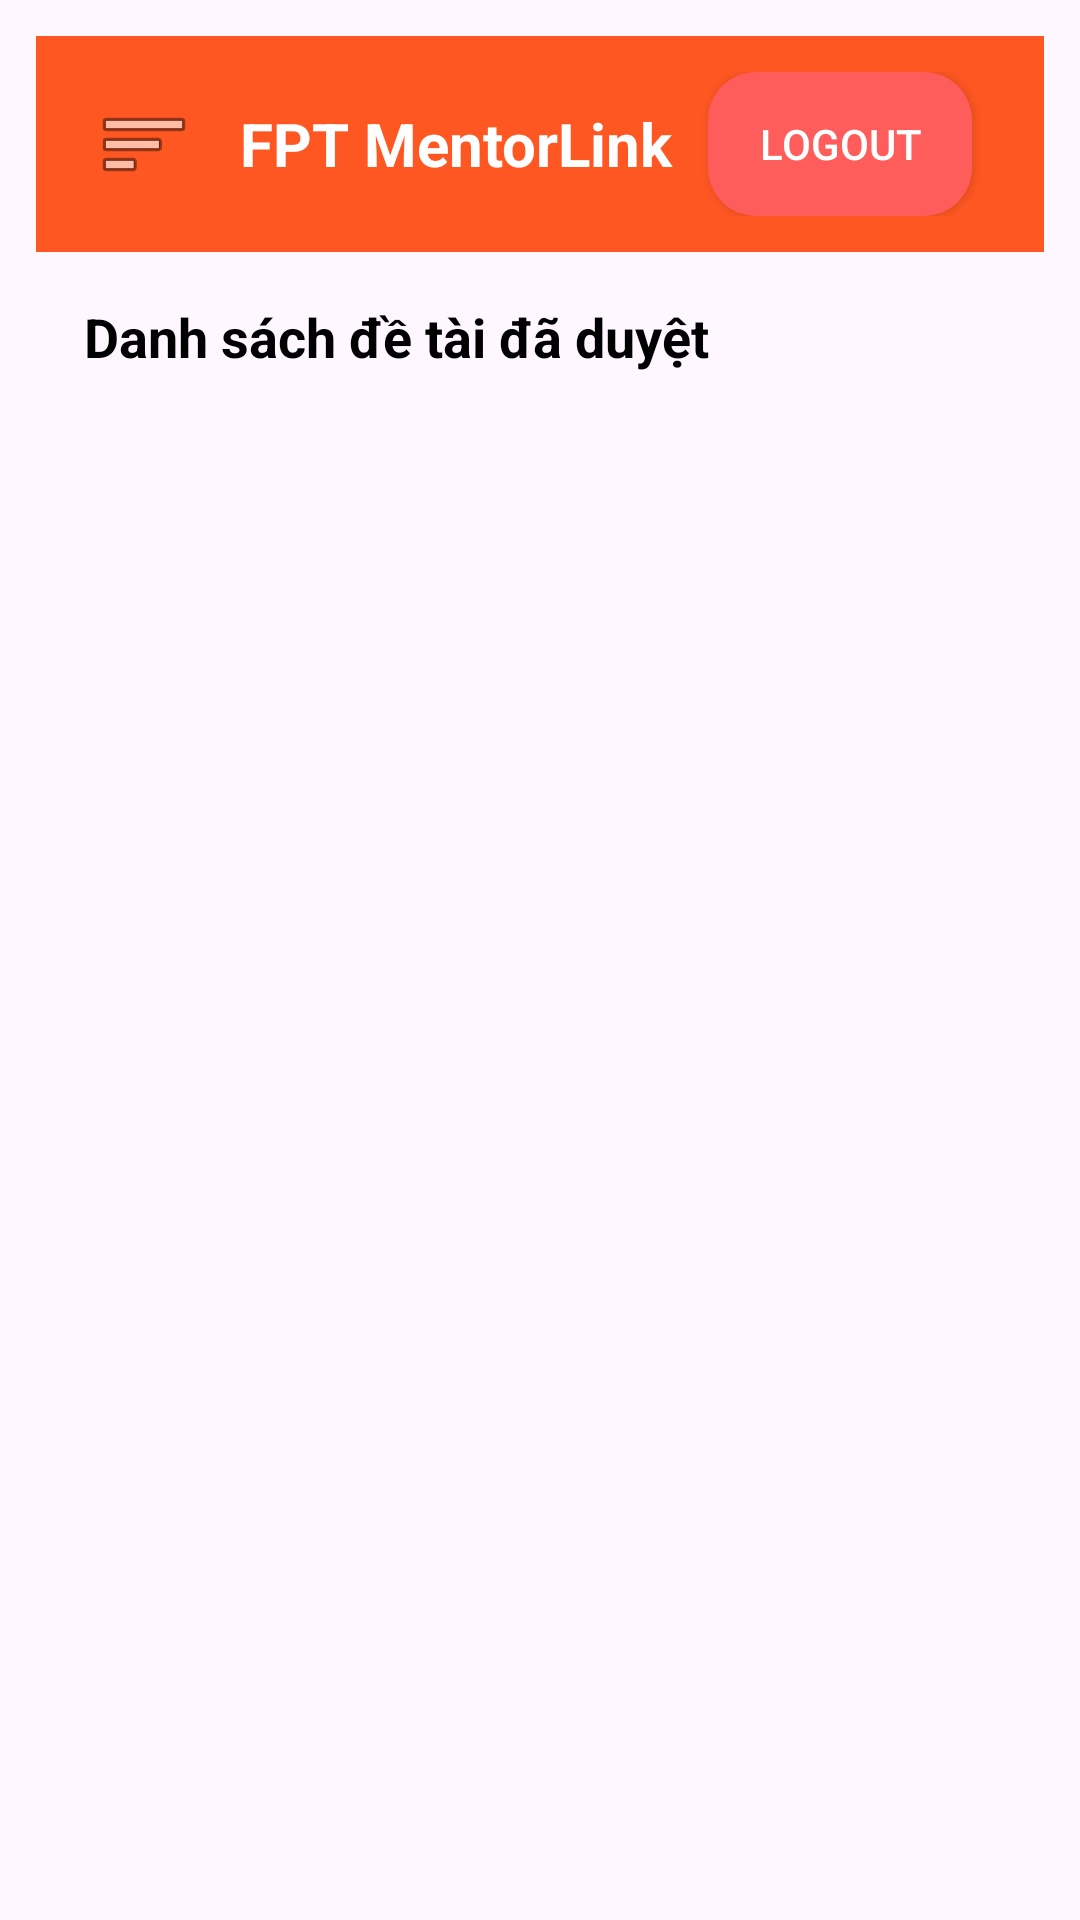

Locate icon controls on the screen. Image size 1080px×1920px, boxes as {"left": x1, "top": y1, "right": x2, "bottom": y2}.
Menu: {"left": 103, "top": 118, "right": 185, "bottom": 171}
